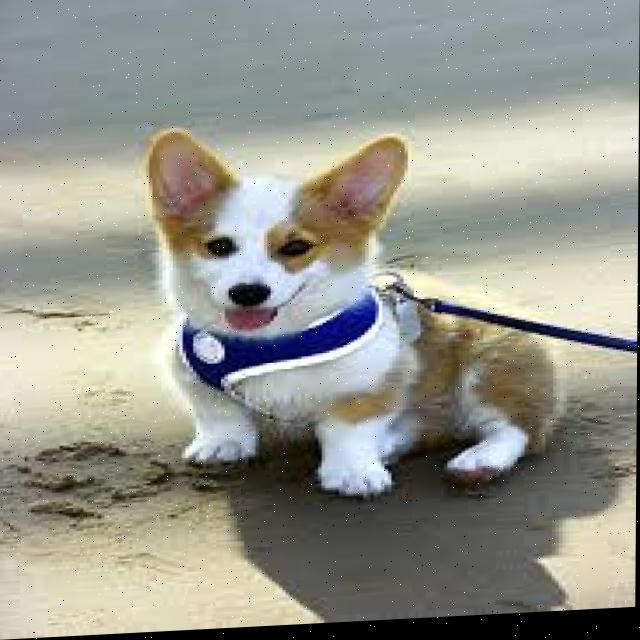CORGI: (129, 100, 549, 521)
